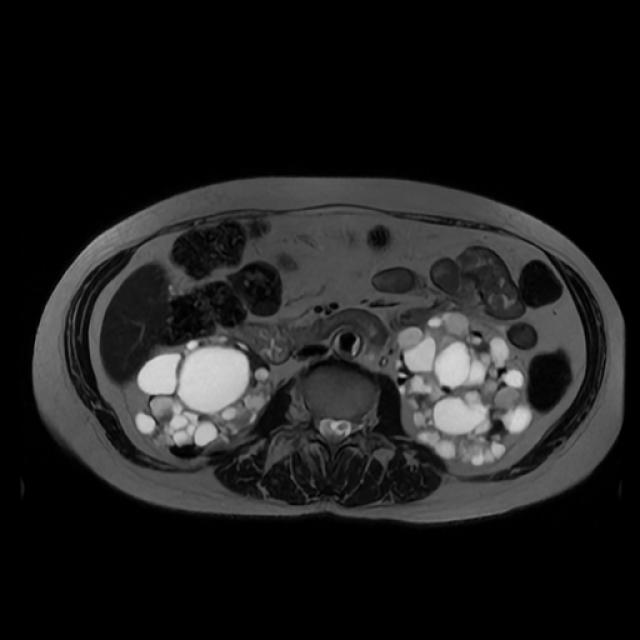sag: (133, 334, 274, 458)
sol: (392, 313, 536, 468)
